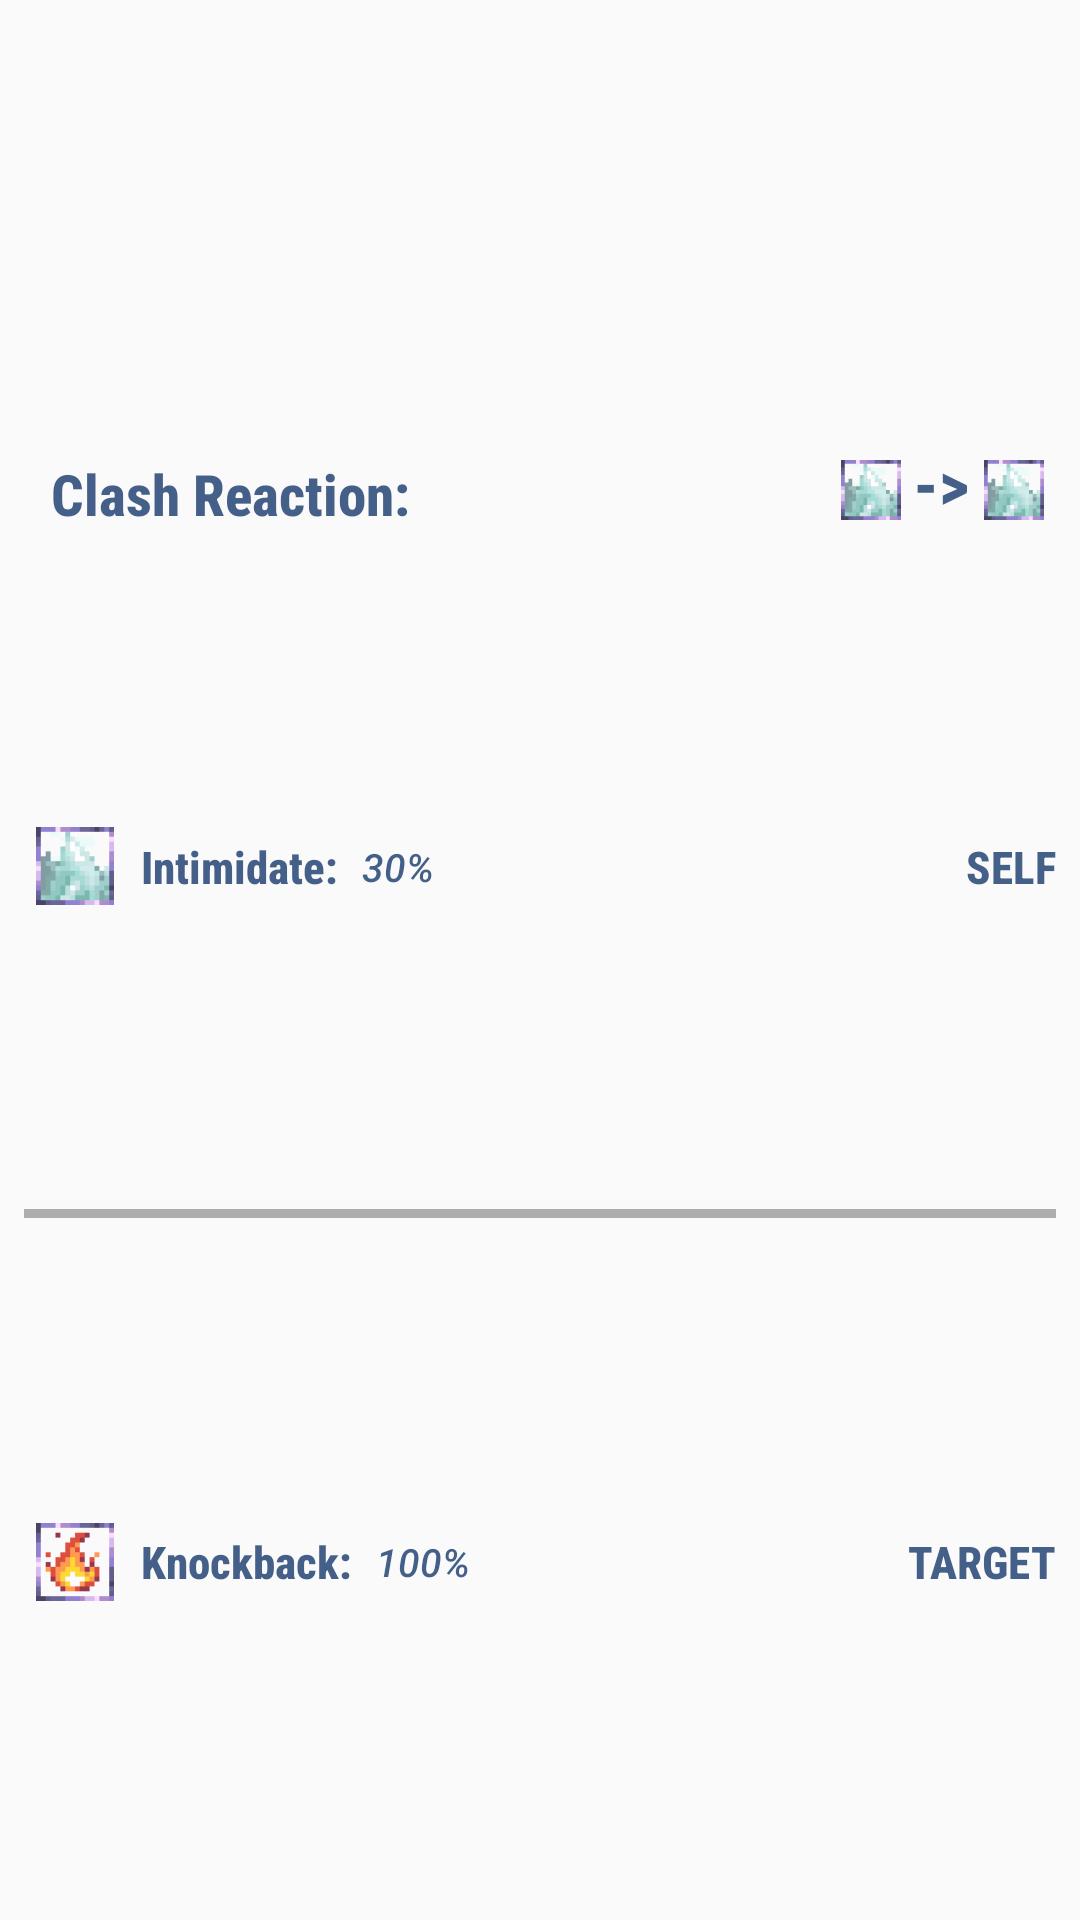

Screen size 1080w x 1920h. Icon name, then its box in pixels as Rect(x1, y1, x2, y2):
symbol fire: Rect(36, 1523, 114, 1601)
symbol glacier: Rect(841, 460, 901, 520), Rect(984, 460, 1044, 520), Rect(36, 827, 114, 905)
